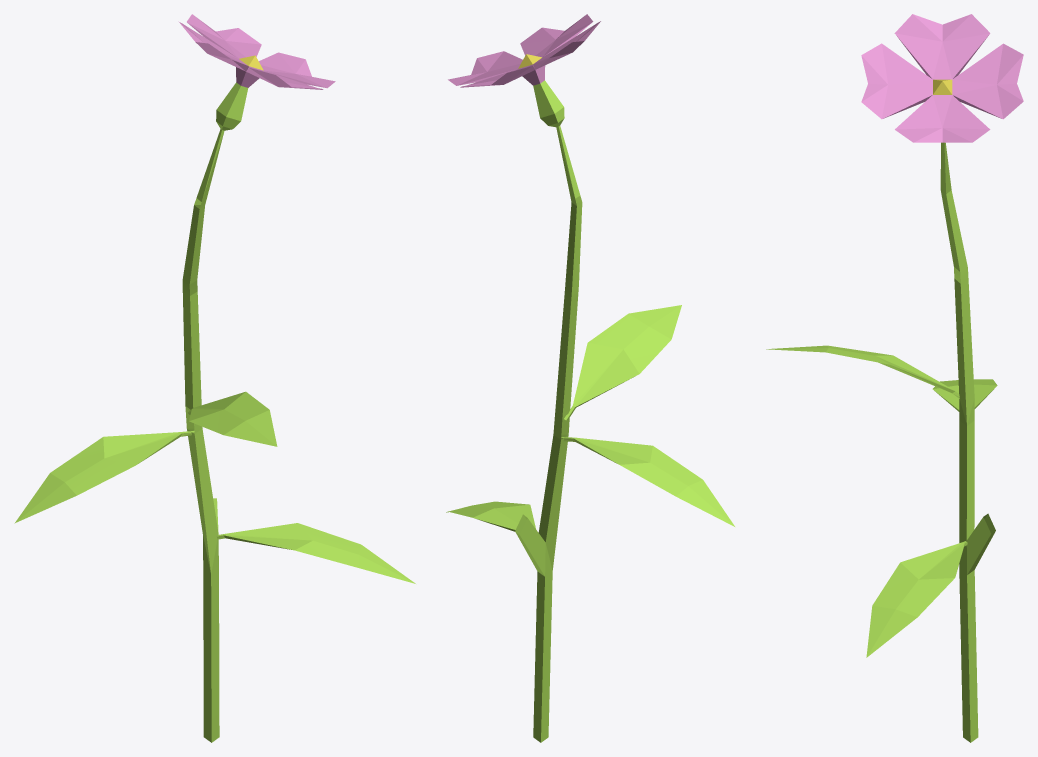
File: one_flower.fbx
The picture shows the model from 3 angles, left to right: view 1: azimuth 30°, elevation 25°; view 2: azimuth 150°, elevation 25°; view 3: azimuth 270°, elevation 25°; orthographic projection. The views are drawn at different scales.
Visible parts, largest first — view 1: flower_0002.001; view 2: flower_0002.001; view 3: flower_0002.001.
Boxes of the visible parts, left/top/right/bottom form: flower_0002.001: left=14, top=14, right=415, bottom=742; flower_0002.001: left=446, top=14, right=734, bottom=742; flower_0002.001: left=766, top=14, right=1023, bottom=742.
Size of the model in its own units: 130 by 258 by 85.54.
